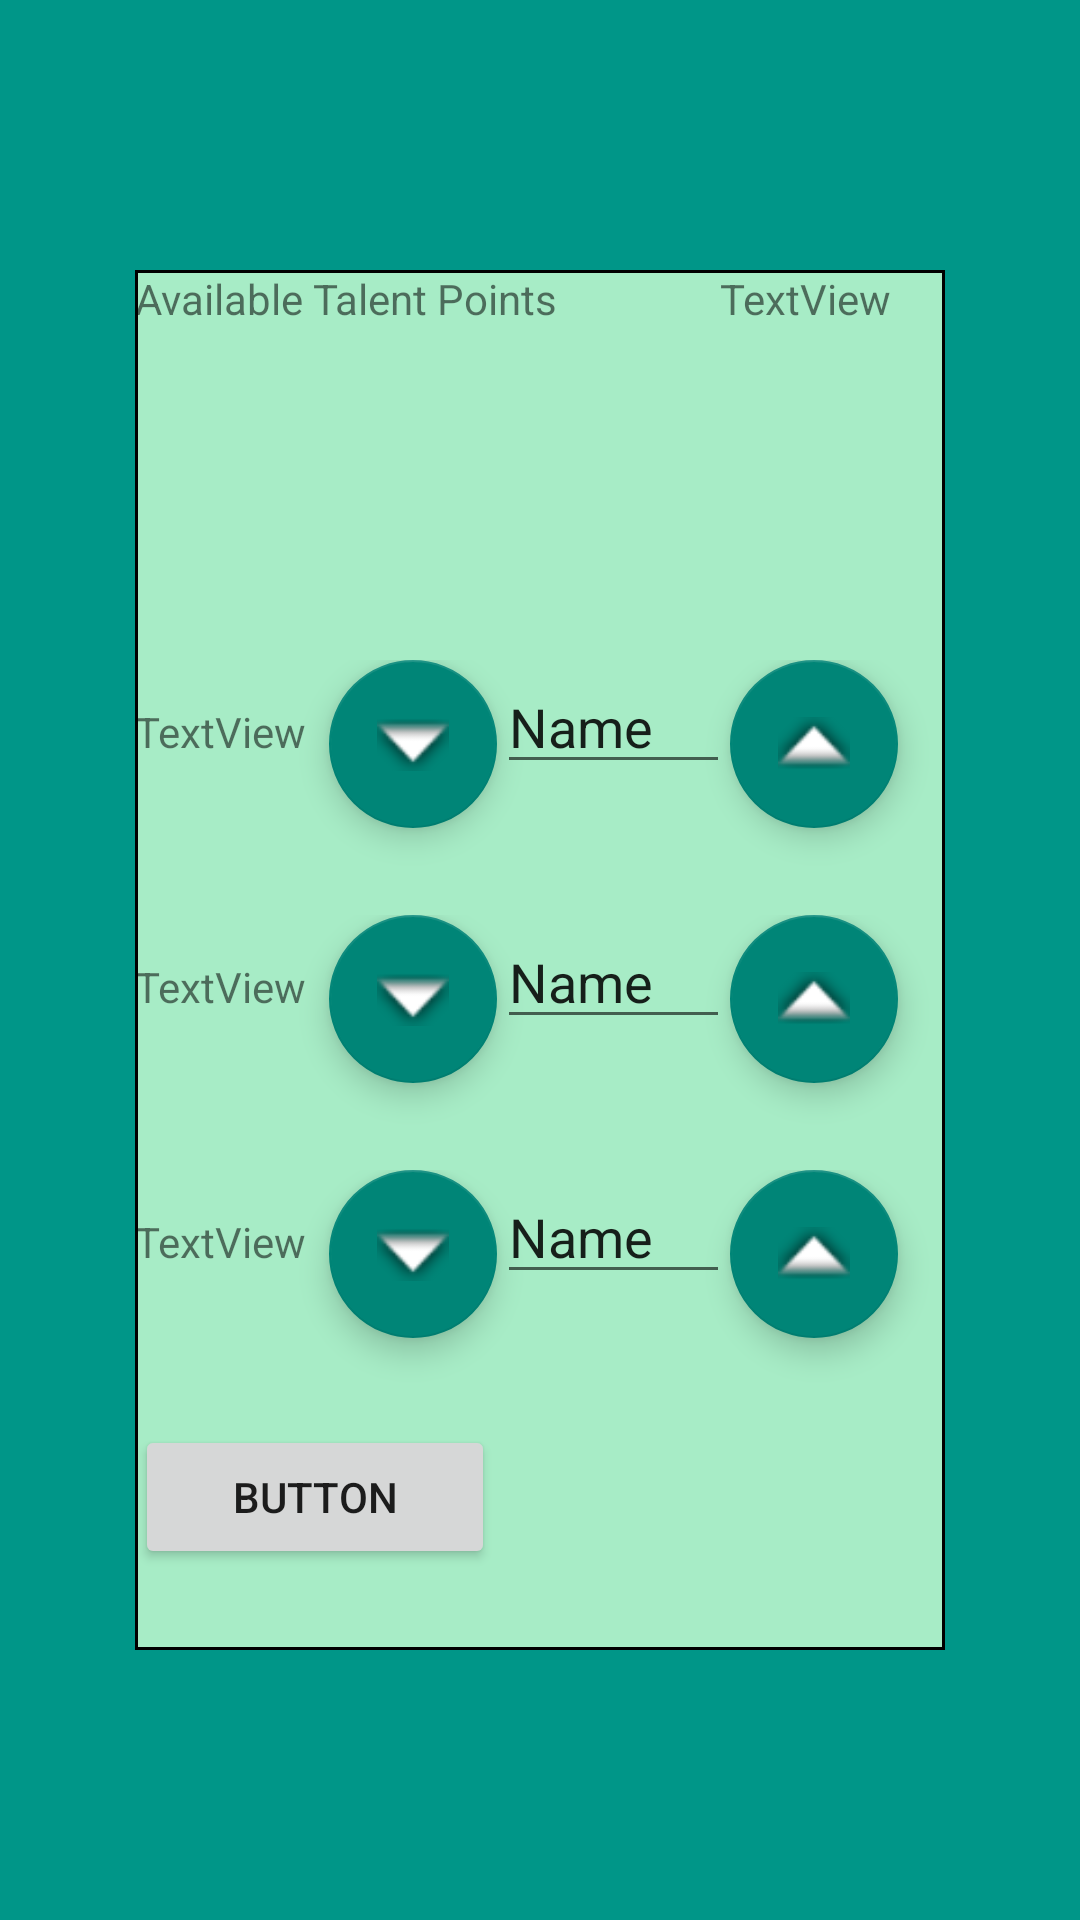

Icons on this 1080×1920 Android screen, each with its box as (x1, y1, x2, y2):
arrow down float: (329, 660, 497, 828), (329, 915, 497, 1083), (329, 1170, 497, 1338)
arrow up float: (730, 660, 898, 828), (730, 915, 898, 1083), (730, 1170, 898, 1338)
